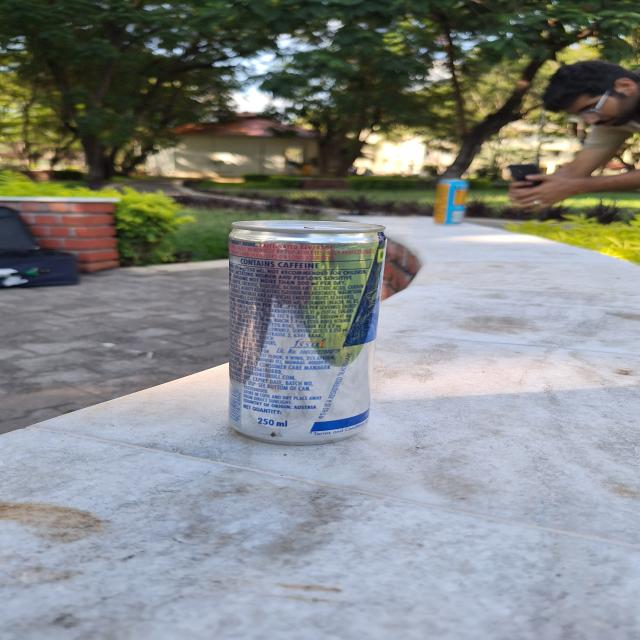Monster Mango Loco: (437, 179, 468, 223)
Redbul: (226, 217, 377, 446)
